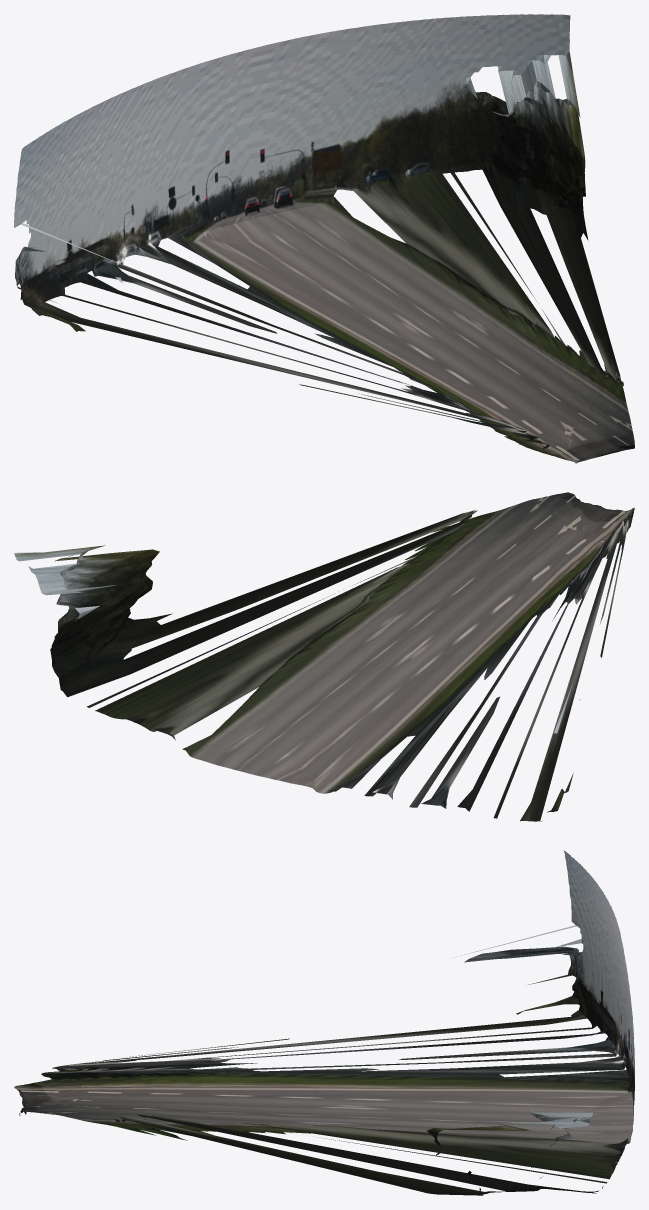
The picture shows the model from 3 angles, top to bottom: view 1: azimuth 30°, elevation 25°; view 2: azimuth 150°, elevation 25°; view 3: azimuth 270°, elevation 25°; orthographic projection. The views are drawn at different scales.
Parts seen in each view (by area): view 1: defaultobject; view 2: defaultobject; view 3: defaultobject.
Part boxes in pixels (x1,y1,x2,y2): defaultobject: (14,14,634,463); defaultobject: (14,492,634,821); defaultobject: (14,850,634,1195).
Bounding box in the file's own units: 40.97 × 13.23 × 44.82.
Materials: 1 (1 with a texture image).
